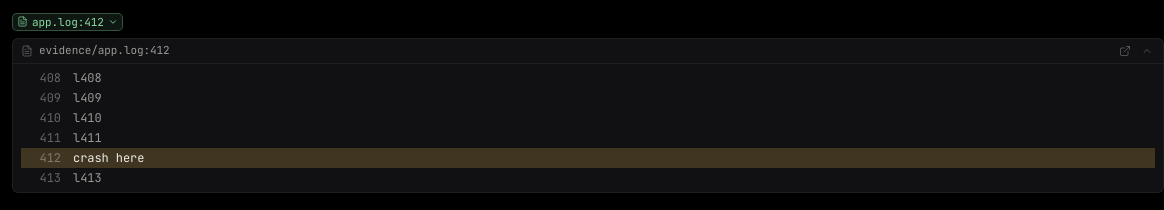
Test: CitationCard › defaultExpanded fetches on mount and can collapse via the card control
Expected: the text "crash here" is shown, [73, 150, 144, 166]
Click the button named "Collapse citation" at [1147, 51], box [1139, 43, 1155, 59]
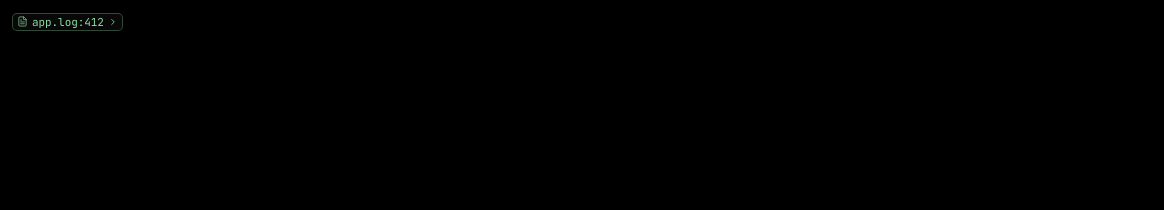
Expected: the button "crash here" is gone
